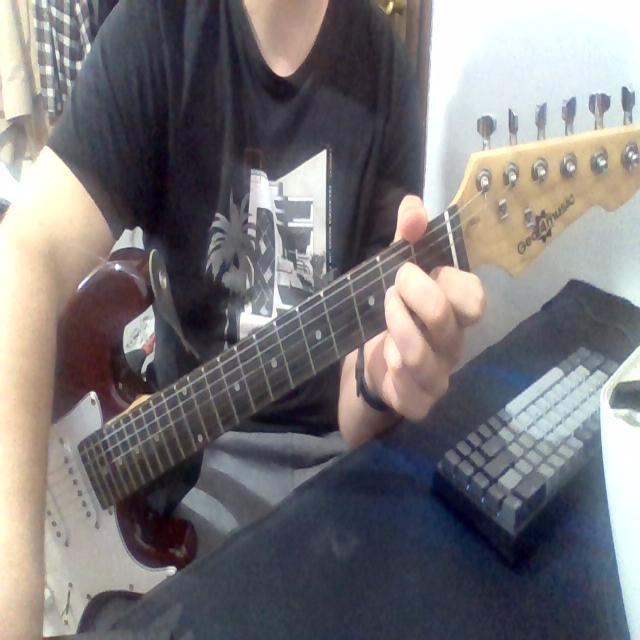Am: (351, 191, 526, 417)
